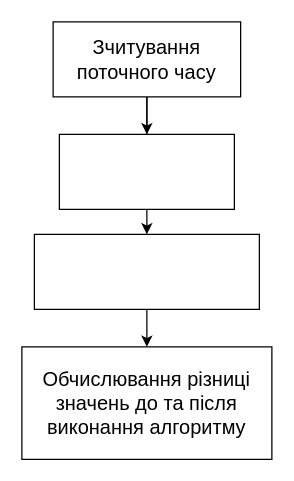
This 294x481 diagram has some shape labels left out. Each missing label, with the centre of its shape:
Виконання конвртакції: (146,171)
Зчитування часу після роботи алгоритму: (146,271)
